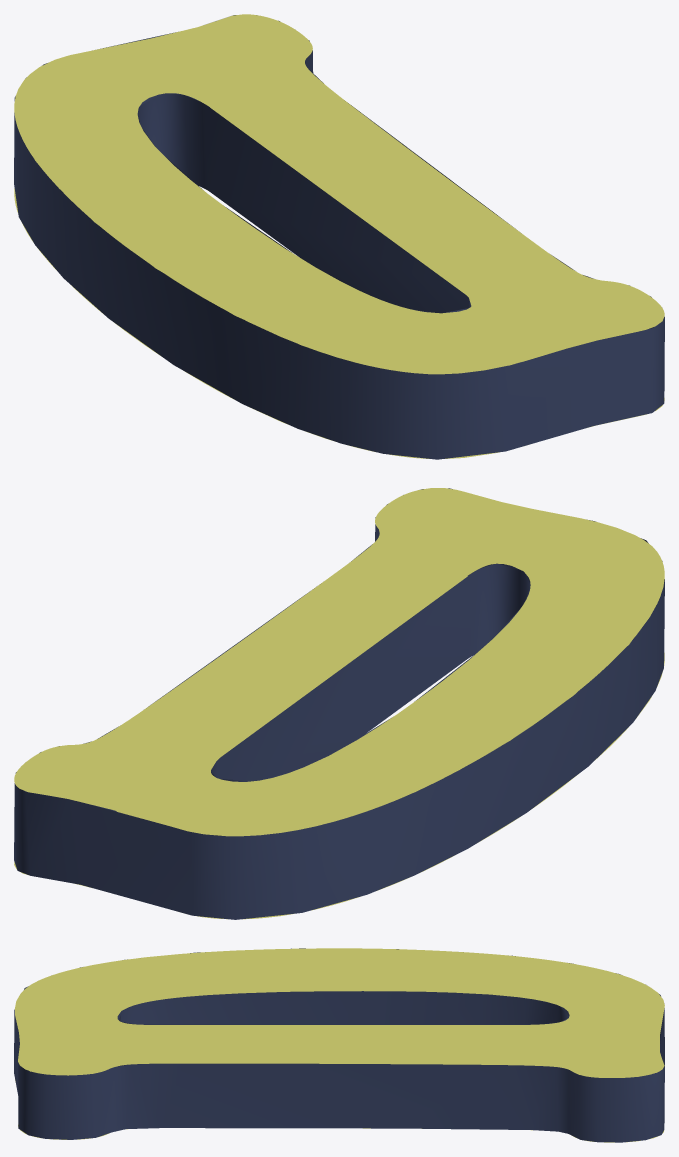
File: d_boss.fbx
3 views of the same model, one above another, from view 1: azimuth 30°, elevation 25°; view 2: azimuth 150°, elevation 25°; view 3: azimuth 270°, elevation 25° (orthographic). The views are drawn at different scales.
Parts seen in each view (by area): view 1: D; view 2: D; view 3: D.
Boxes of the visible parts, x1,y1,x2,y2 form: D: (14, 14, 664, 459); D: (14, 488, 664, 919); D: (14, 948, 664, 1142).
Size of the model in its own units: 0.69 by 0.1599 by 1.46.
